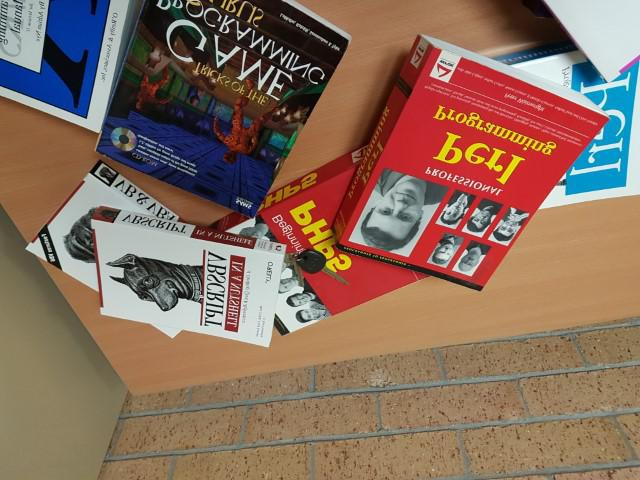key: (298, 250, 350, 287)
